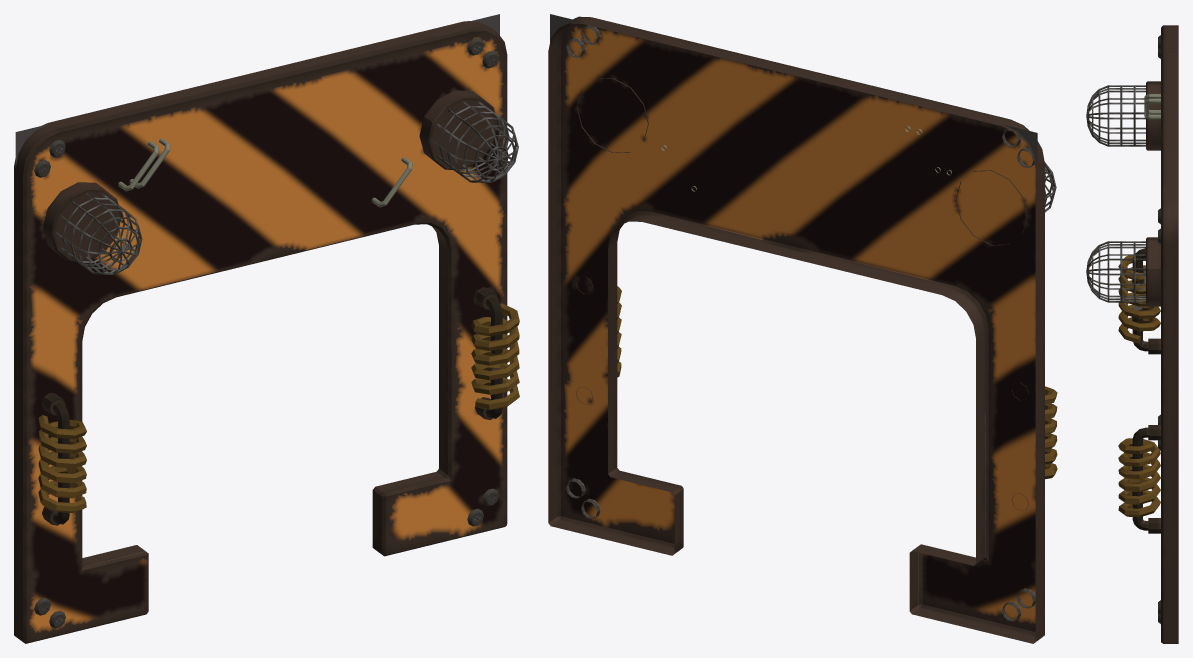
File: Entrance_Frame.fbx
3 renders of one model, left to right at view 1: azimuth 30°, elevation 25°; view 2: azimuth 150°, elevation 25°; view 3: azimuth 270°, elevation 25°, orthographic. The views are drawn at different scales.
Parts seen in each view (by area): view 1: Plane.010; view 2: Plane.010; view 3: Plane.010.
Boxes of the visible parts, x1,y1,x2,y2 form: Plane.010: [14, 14, 519, 643]; Plane.010: [548, 14, 1057, 643]; Plane.010: [1086, 25, 1178, 643].
Size of the model in its own units: 200 by 200 by 38.97.
